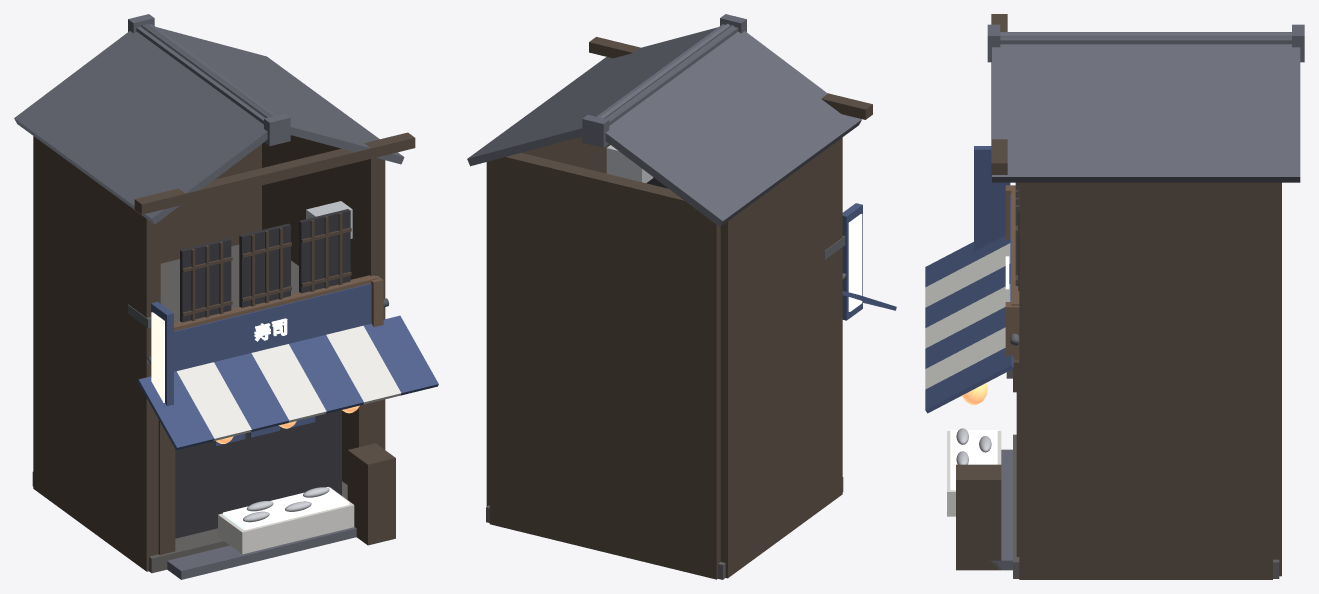
The model's file is prop_shop_sushi.glb.
The picture shows the model from 3 angles, left to right: view 1: azimuth 30°, elevation 25°; view 2: azimuth 150°, elevation 25°; view 3: azimuth 270°, elevation 25°; orthographic projection. The views are drawn at different scales.
Visible parts, largest first — view 1: shop_sushi; view 2: shop_sushi; view 3: shop_sushi.
Part boxes in pixels (x1=…): shop_sushi: x1=14, y1=14, x2=438, y2=579; shop_sushi: x1=467, y1=14, x2=896, y2=579; shop_sushi: x1=925, y1=14, x2=1304, y2=579.
Bounding box in the file's own units: 3.9 × 5.9 × 4.19.
